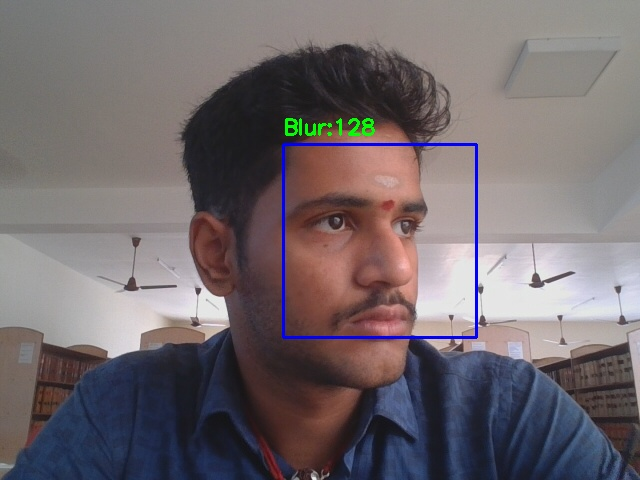real: (283, 144, 476, 337)
